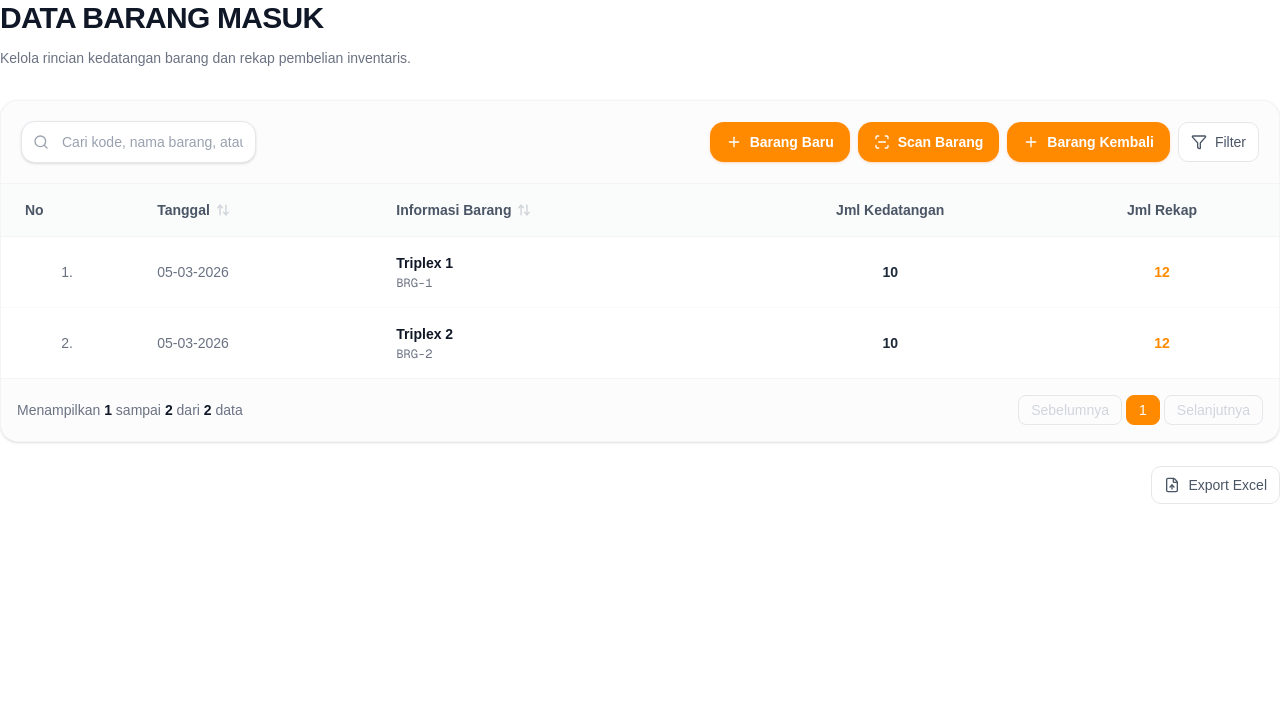
Test: BarangMasuk create inbound › keeps digits only in qty fields, maxLength 9
The image size is (1280, 720).
expect the text "Triplex 1" is shown: met, box 396,255 -> 453,271
Click the button "Barang Baru".
click(780, 142)  # box 710,122 -> 850,162
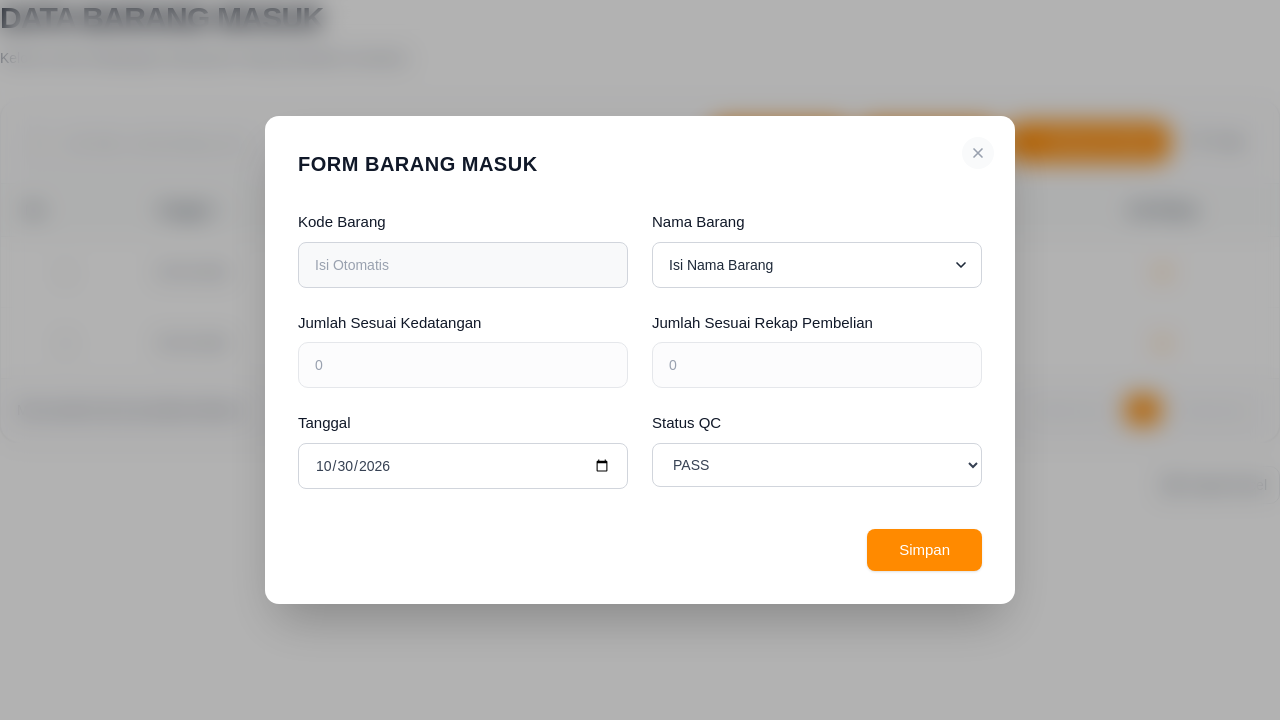
expect the heading "FORM BARANG MASUK" is shown: met, box 298,153 -> 538,175
Type "1e-2.5" into the field with placeholder "0" below "Jumlah Sesuai Kedatangan".
click(463, 365); type("1e-2.5")  # box 298,342 -> 628,388
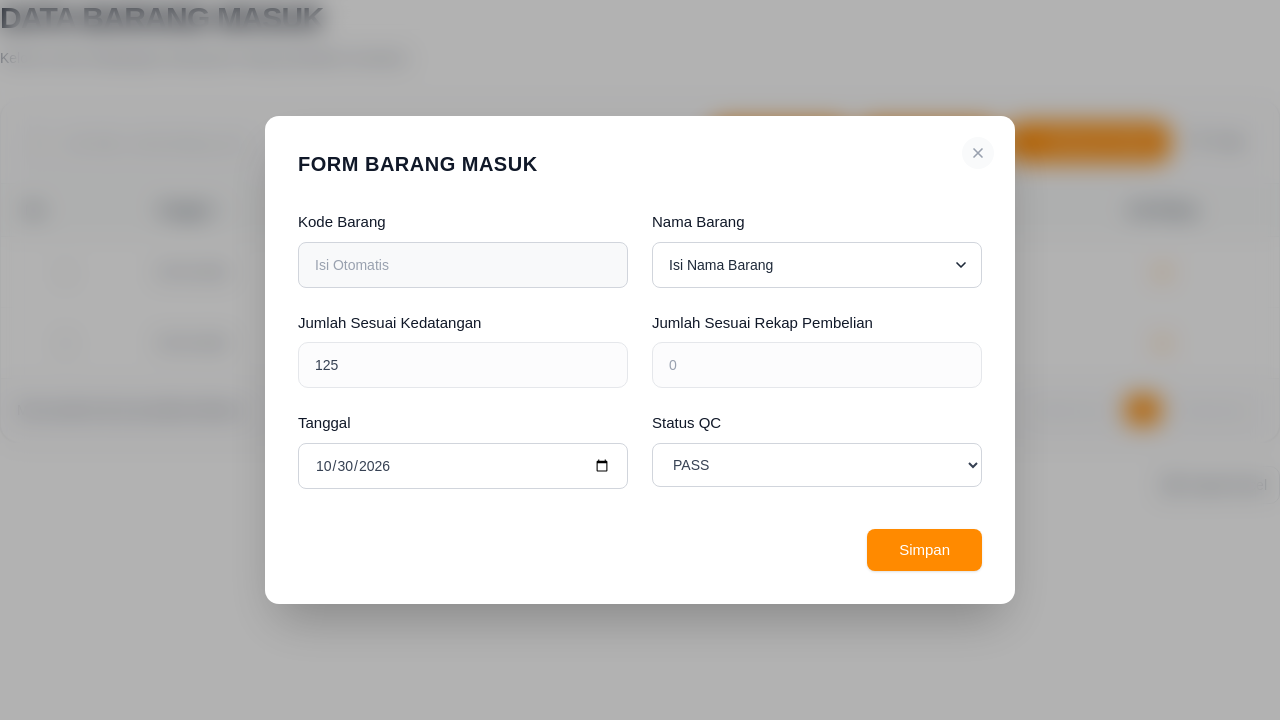
expect the field with placeholder "0" holds "125": met, box 298,342 -> 628,388
Type "1e-2.5" into the field with placeholder "0".
click(817, 365); type("1e-2.5")  # box 652,342 -> 982,388
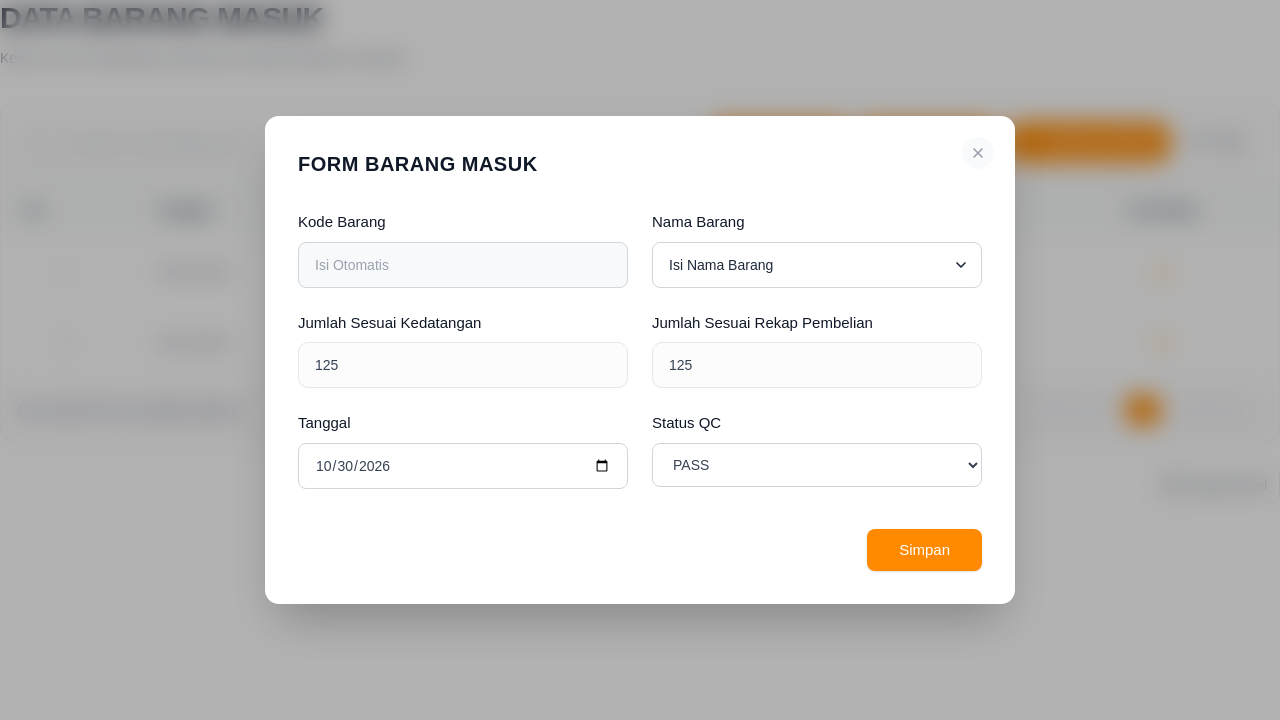
expect the field with placeholder "0" below "Jumlah Sesuai Rekap Pembelian" holds "125": met, box 652,342 -> 982,388
